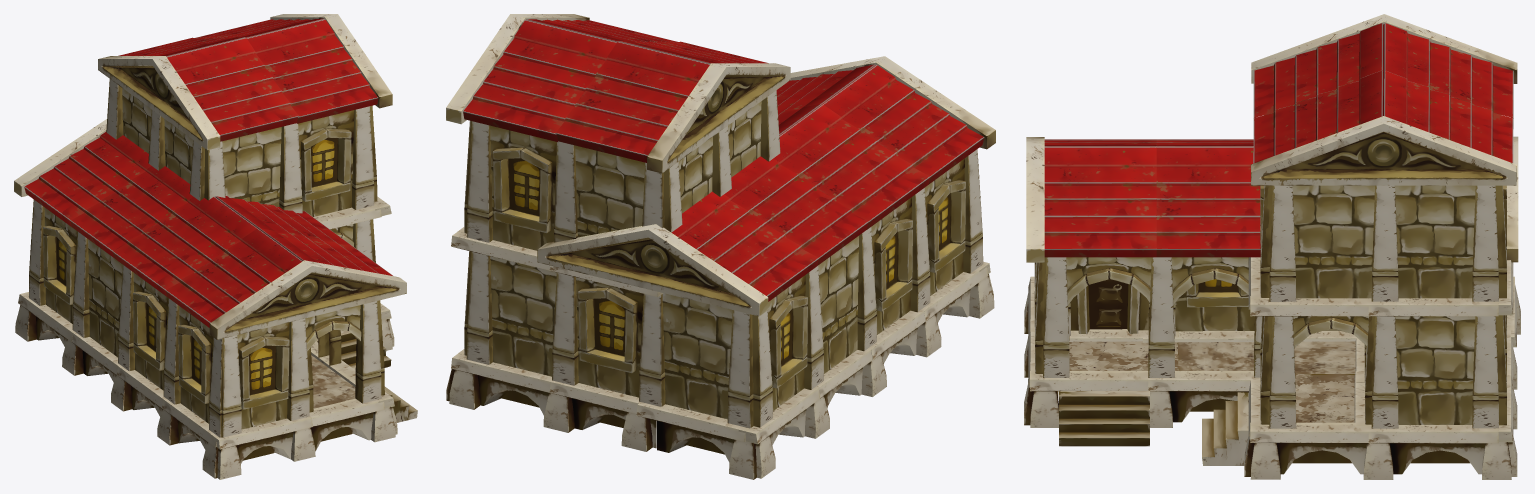
Rendered from Rome_Village_Buildings_06.FBX.
The picture shows the model from 3 angles, left to right: view 1: azimuth 30°, elevation 25°; view 2: azimuth 150°, elevation 25°; view 3: azimuth 270°, elevation 25°; orthographic projection. The views are drawn at different scales.
Parts seen in each view (by area): view 1: Rome_Village_Buildings_06; view 2: Rome_Village_Buildings_06; view 3: Rome_Village_Buildings_06.
Part boxes in pixels (<box>): Rome_Village_Buildings_06: <box>14,14,417,479</box>; Rome_Village_Buildings_06: <box>446,14,995,479</box>; Rome_Village_Buildings_06: <box>1024,14,1520,479</box>.
Bounding box in the file's own units: 814 × 841 × 1066.
